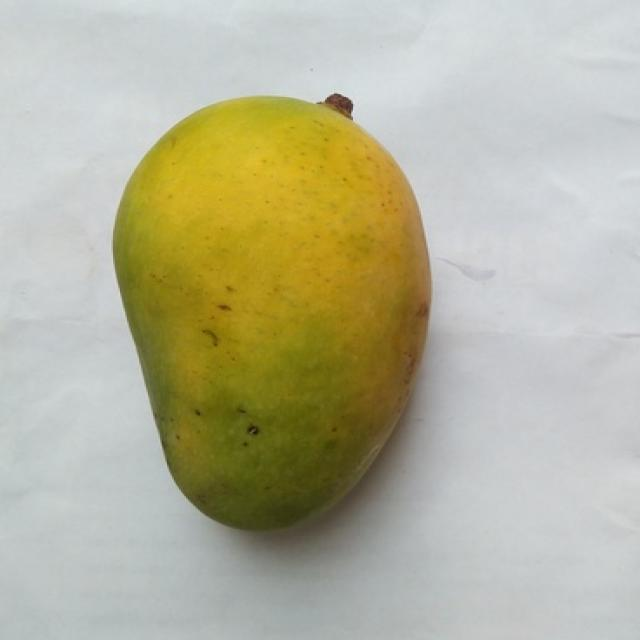Mango: (115, 97, 430, 530)
